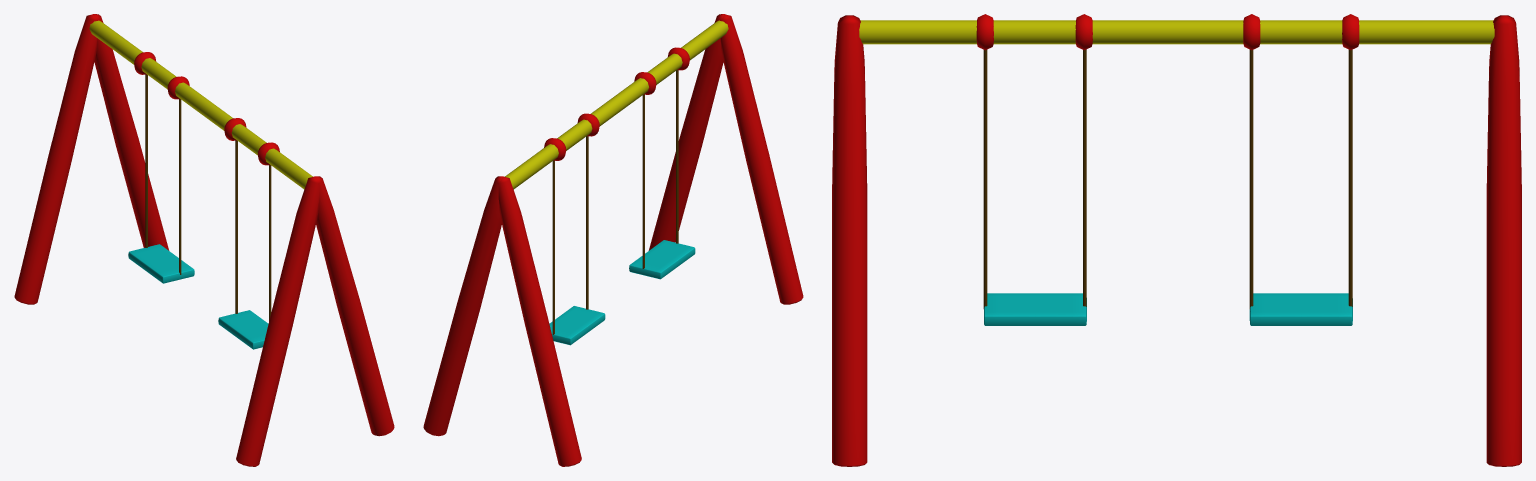
Rendered from SwingSet.fbx.
3 views of the same model, side by side, from view 1: azimuth 30°, elevation 25°; view 2: azimuth 150°, elevation 25°; view 3: azimuth 270°, elevation 25° (orthographic). The views are drawn at different scales.
Parts seen in each view (by area): view 1: polySurface3; view 2: polySurface3; view 3: polySurface3.
Part boxes in pixels (x1,y1,x2,y2): polySurface3: [14, 14, 394, 466]; polySurface3: [423, 14, 803, 466]; polySurface3: [832, 14, 1521, 466].
Size of the model in its own units: 2.57 by 4.32 by 6.69.
